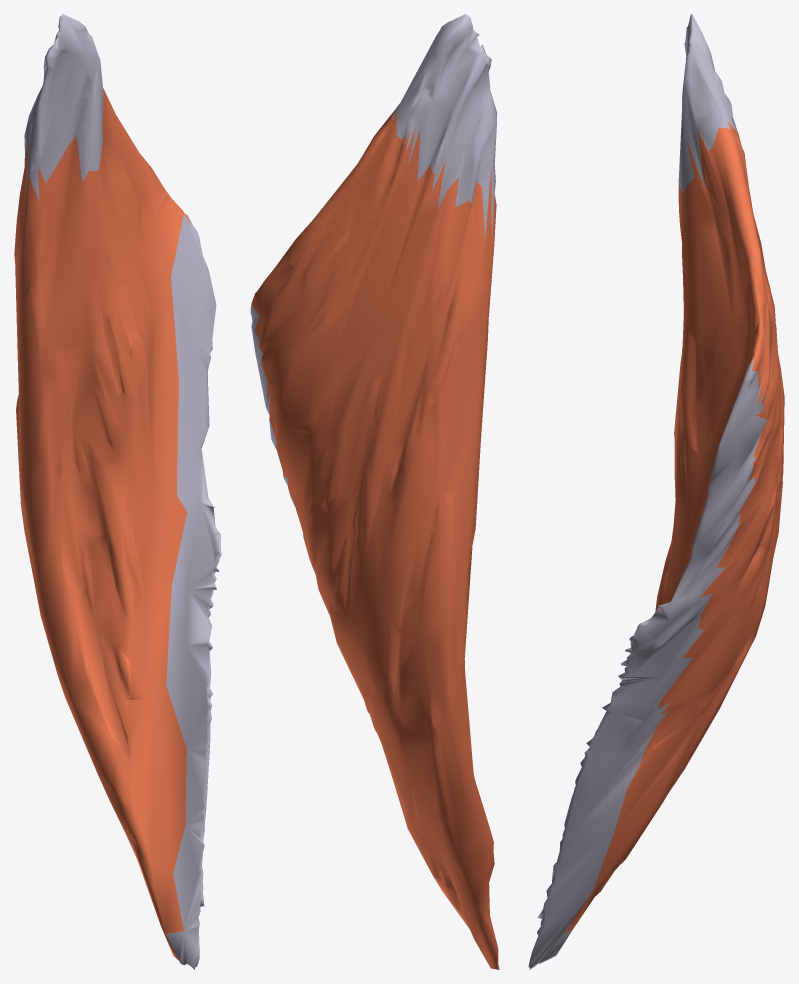
Rendered from Anconeus_muscle.r_Generated_Mesh_From_X3D.1008.glb.
3 renders of one model, left to right at view 1: azimuth 30°, elevation 25°; view 2: azimuth 150°, elevation 25°; view 3: azimuth 270°, elevation 25°, orthographic. The views are drawn at different scales.
Parts seen in each view (by area): view 1: Anconeus_muscle.r_Generated_Mesh_From_X3D.1008; view 2: Anconeus_muscle.r_Generated_Mesh_From_X3D.1008; view 3: Anconeus_muscle.r_Generated_Mesh_From_X3D.1008.
Boxes of the visible parts, box(x1,y1,x2,y2) form: Anconeus_muscle.r_Generated_Mesh_From_X3D.1008: box(14, 14, 221, 969); Anconeus_muscle.r_Generated_Mesh_From_X3D.1008: box(250, 14, 499, 969); Anconeus_muscle.r_Generated_Mesh_From_X3D.1008: box(528, 14, 784, 969).
Size of the model in its own units: 0.0238 by 0.1047 by 0.0262.
